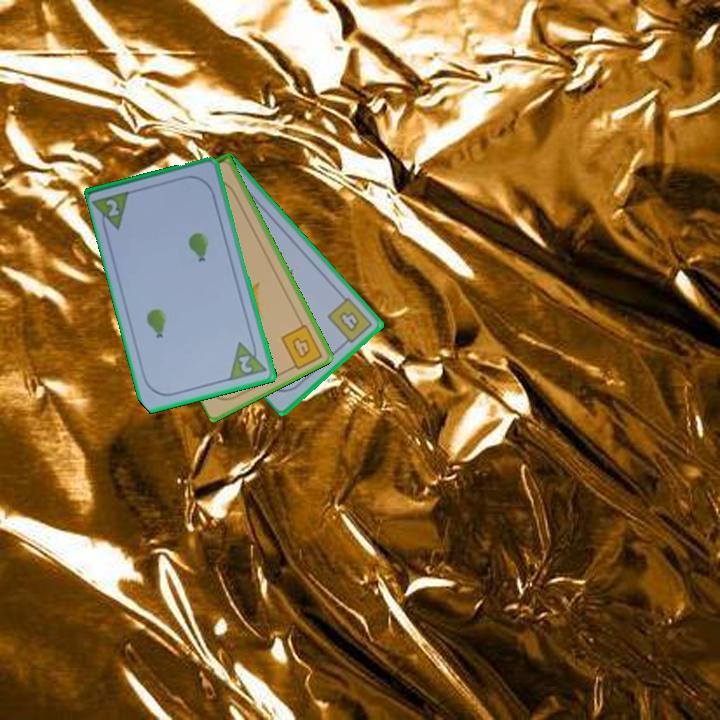2p: (102, 195, 123, 220), (235, 352, 256, 376)
4b: (324, 294, 375, 349), (278, 321, 325, 374)
